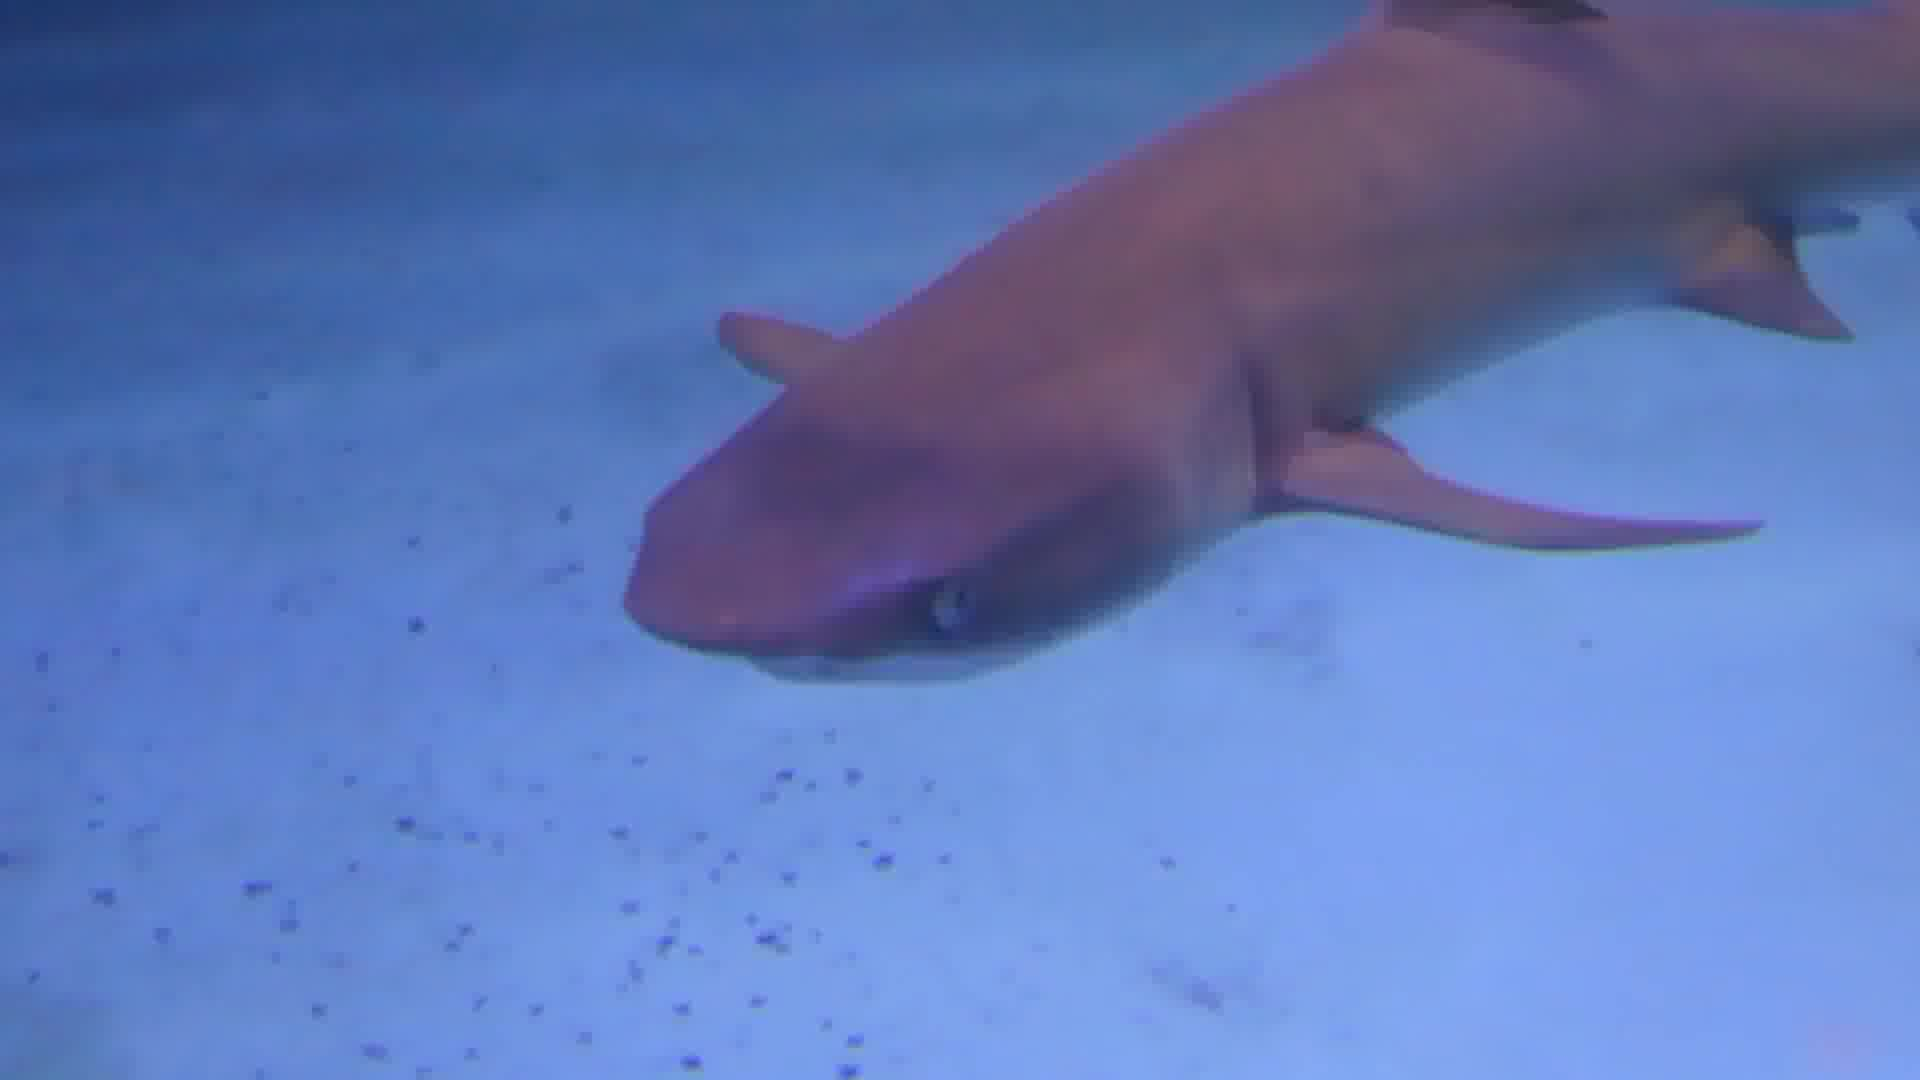Triaenodon obesus: (596, 1, 1920, 715)
